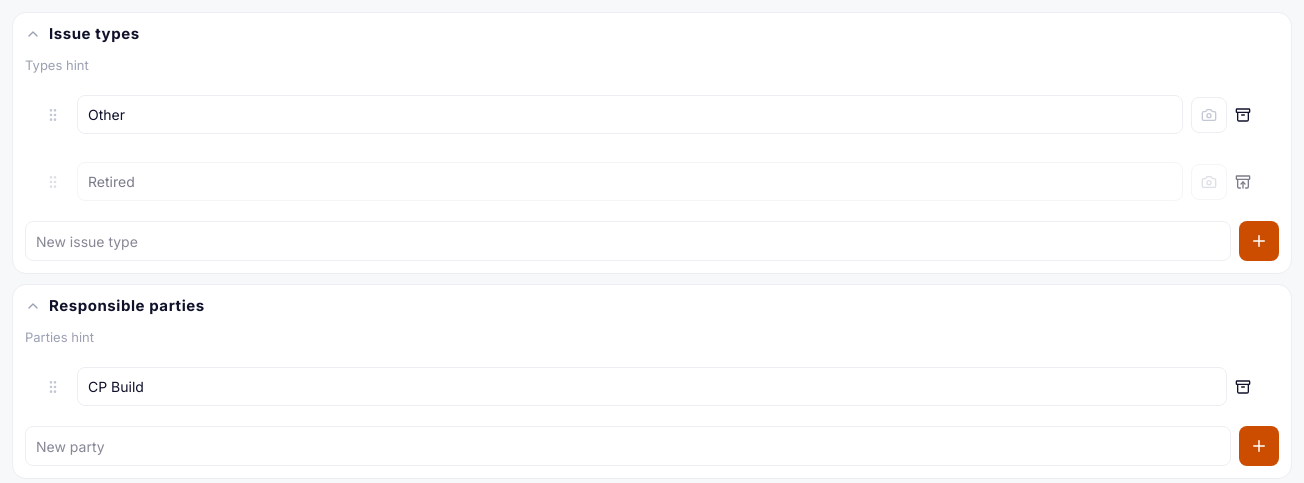
Scenario: IssueCatalogManager › collapses and expands the issue types section
Expected: the field showing "Other" is shown, [77,95,1183,134]
Click the button with aria-label "Collapse Issue types": (94, 34) [13,13,1291,56]
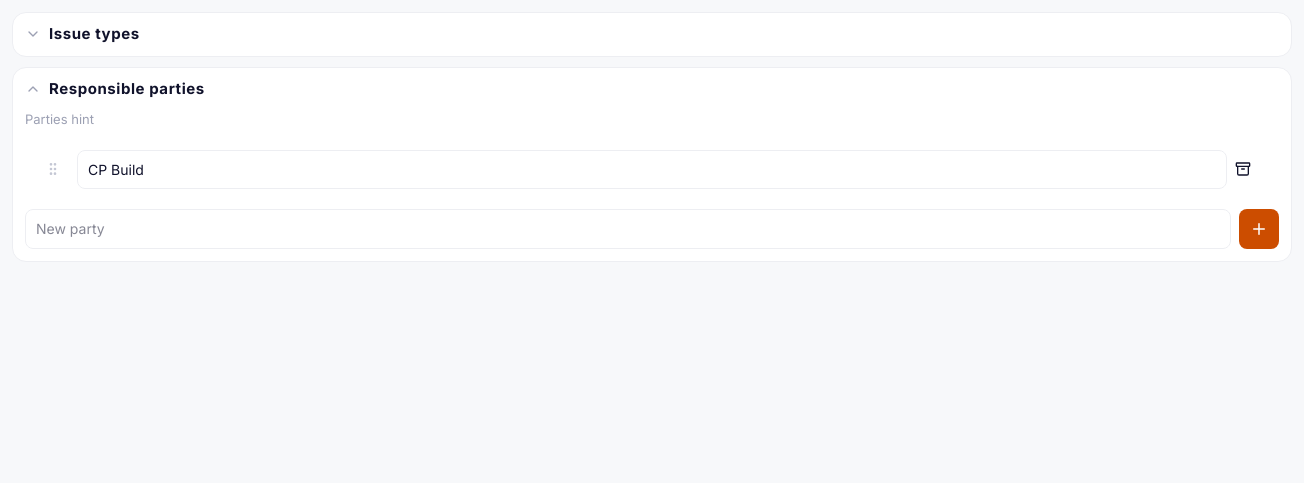
Expected: the field showing "Other" is not shown
Click the button with aria-label "Expand Issue types": (94, 34) [13,13,1291,56]
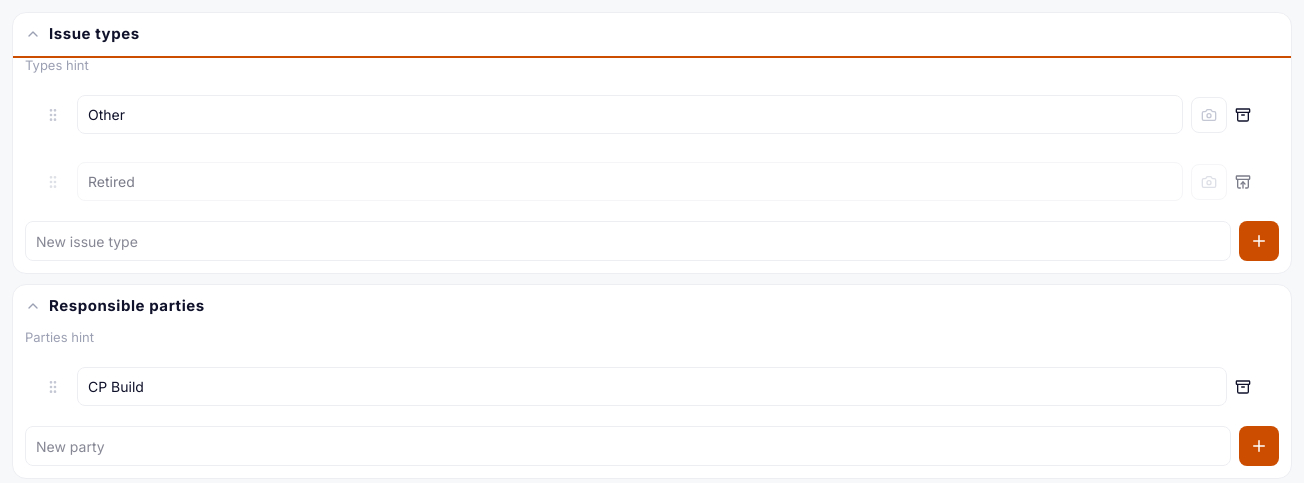
Now the field showing "Other" is shown, box [77,95,1183,134]
